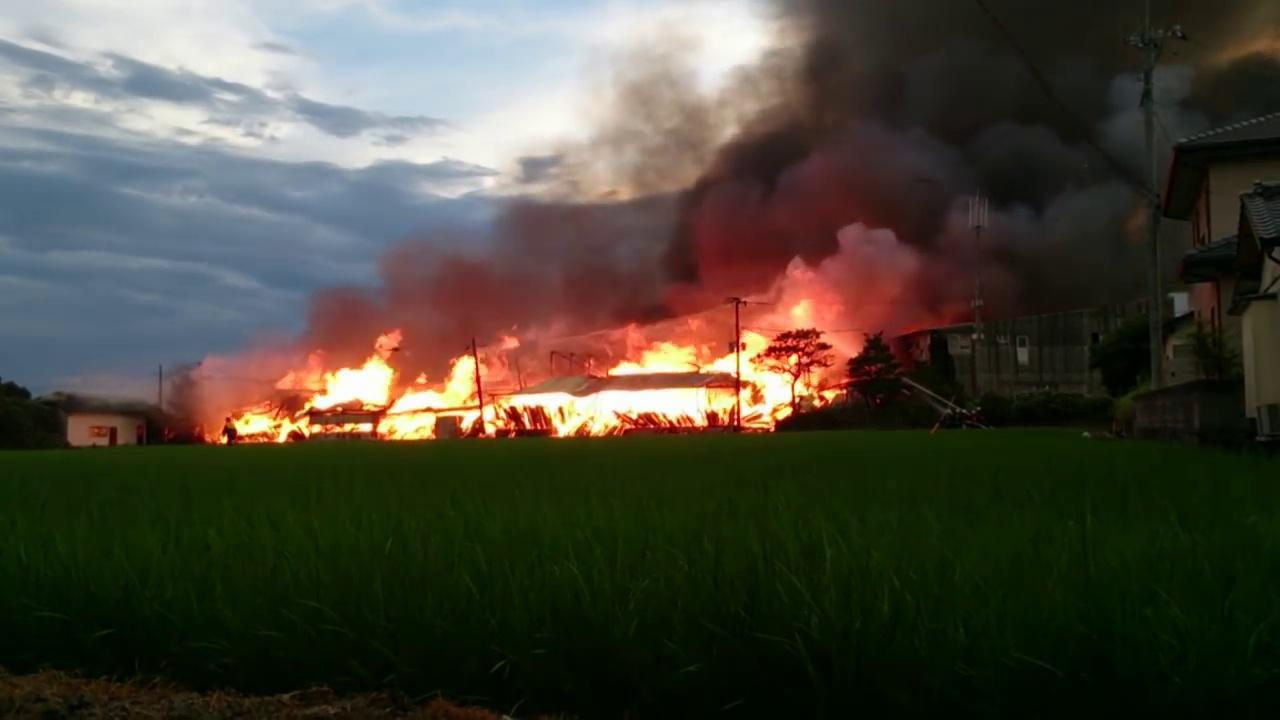Fire: (208, 305, 840, 444)
